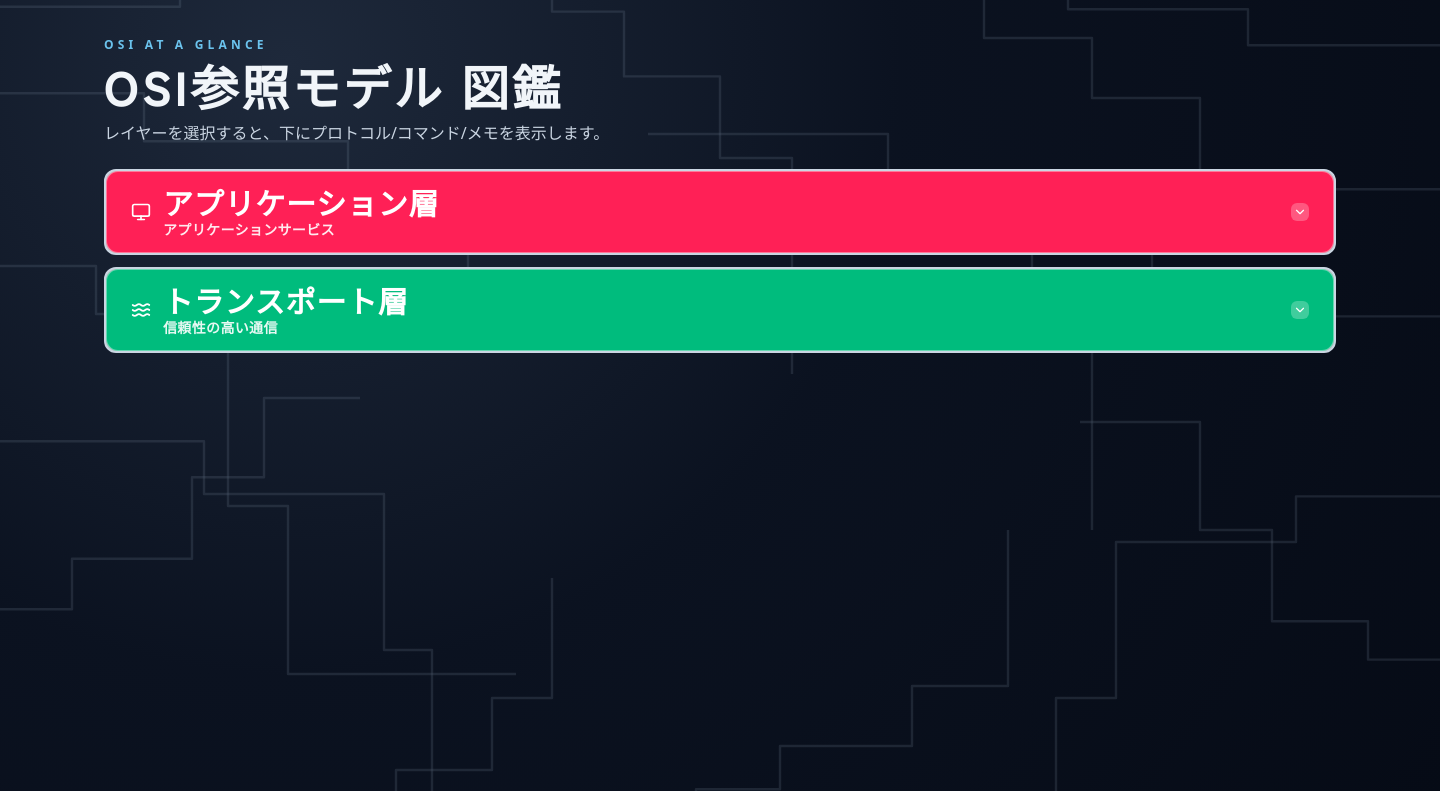
OsiExplorer › keeps already open layer when opening another
Click the button with aria-label "L7" at [301, 202], box [106,171,1334,253]
(page scrolled)
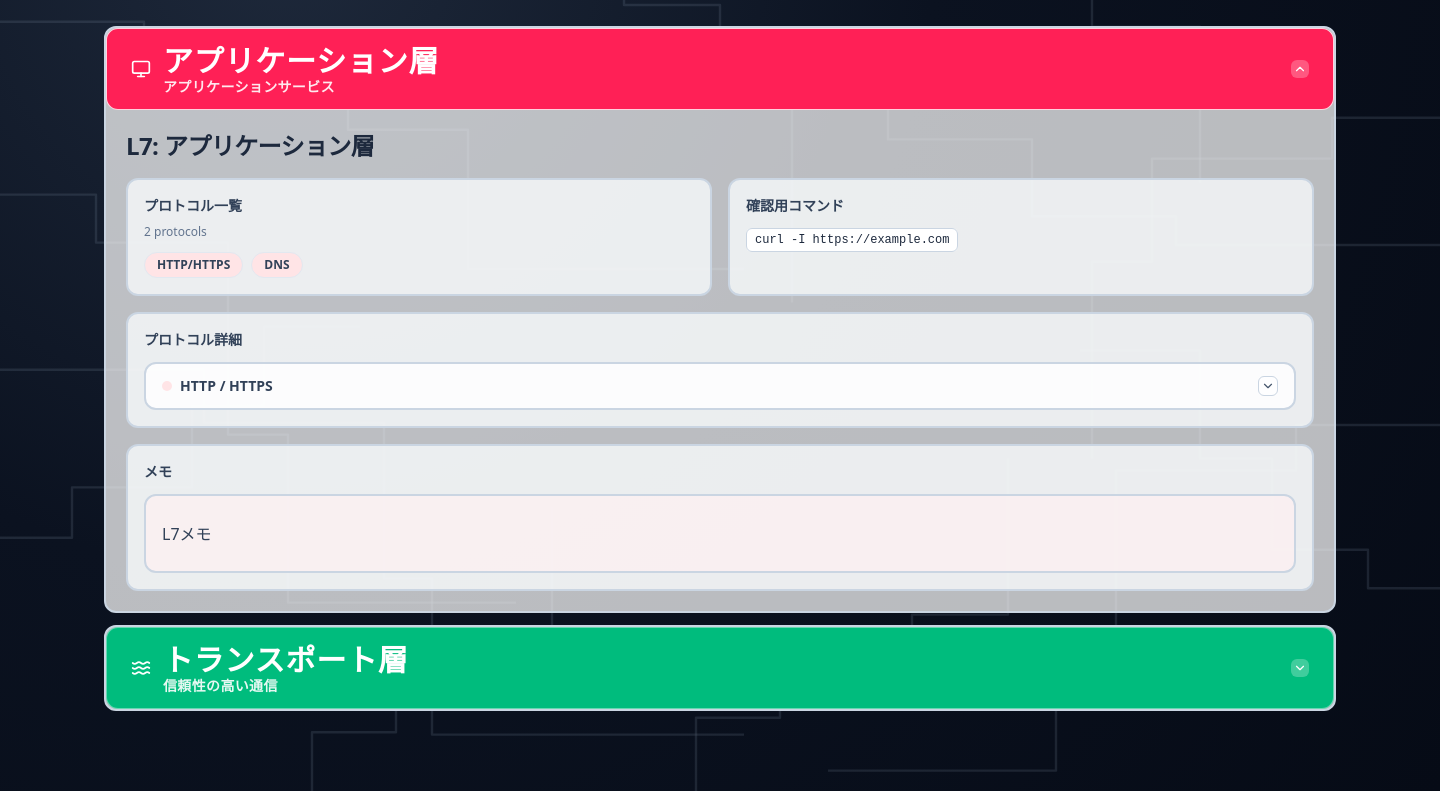
Click the button with aria-label "L4" at [286, 658], box [106,627,1334,709]
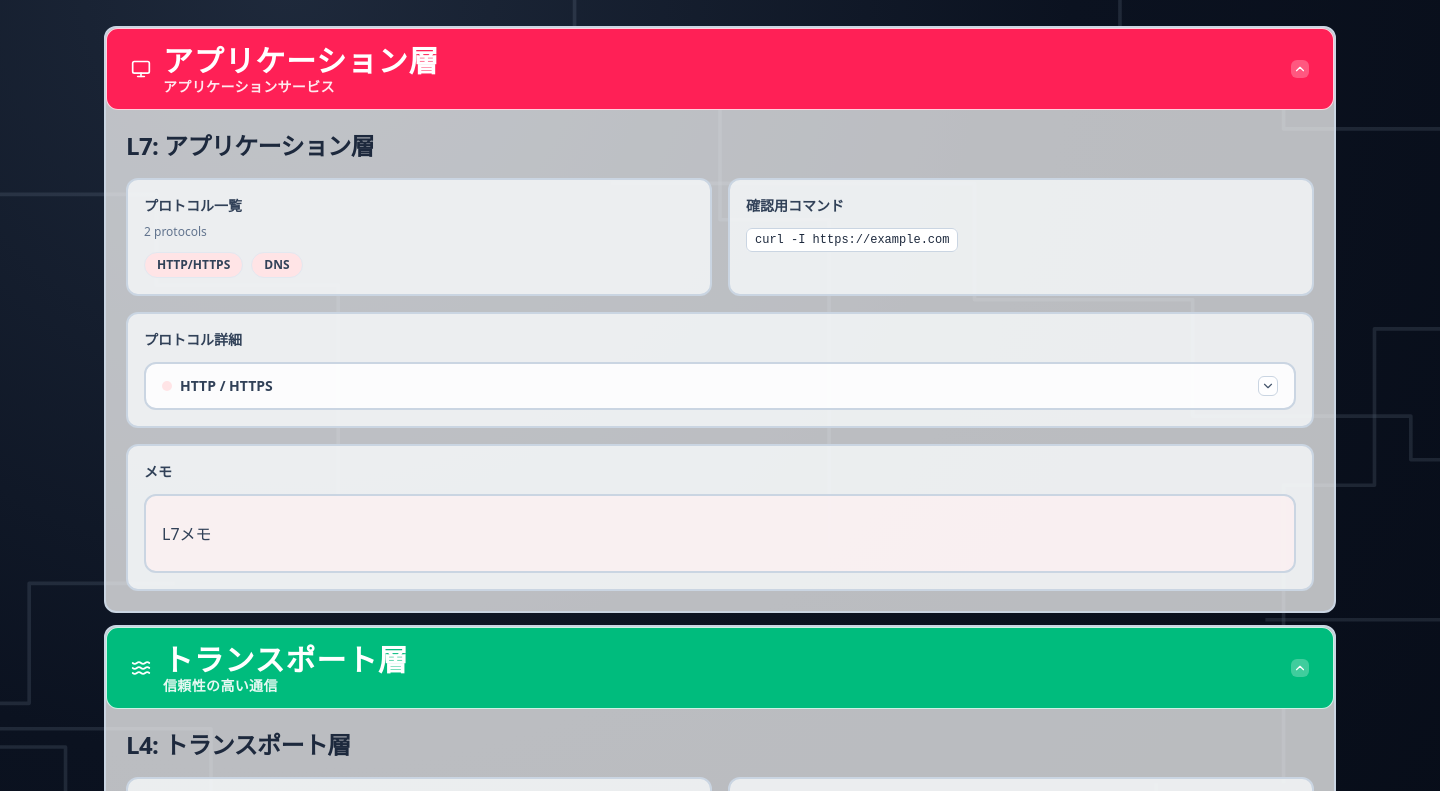
Expected: the heading "L7: アプリケーション層" is shown, [126,129,374,162]
Expected: the heading "L4: トランスポート層" is shown, [126,728,351,761]
